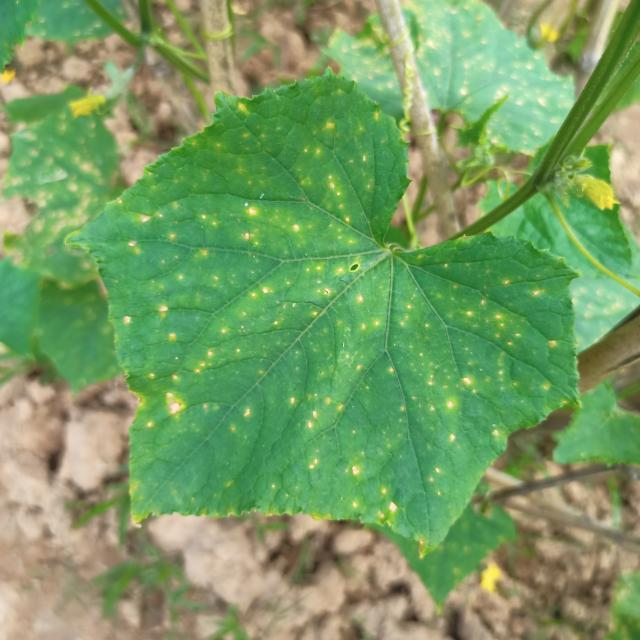disease_cucumber: (125, 101, 539, 548)
